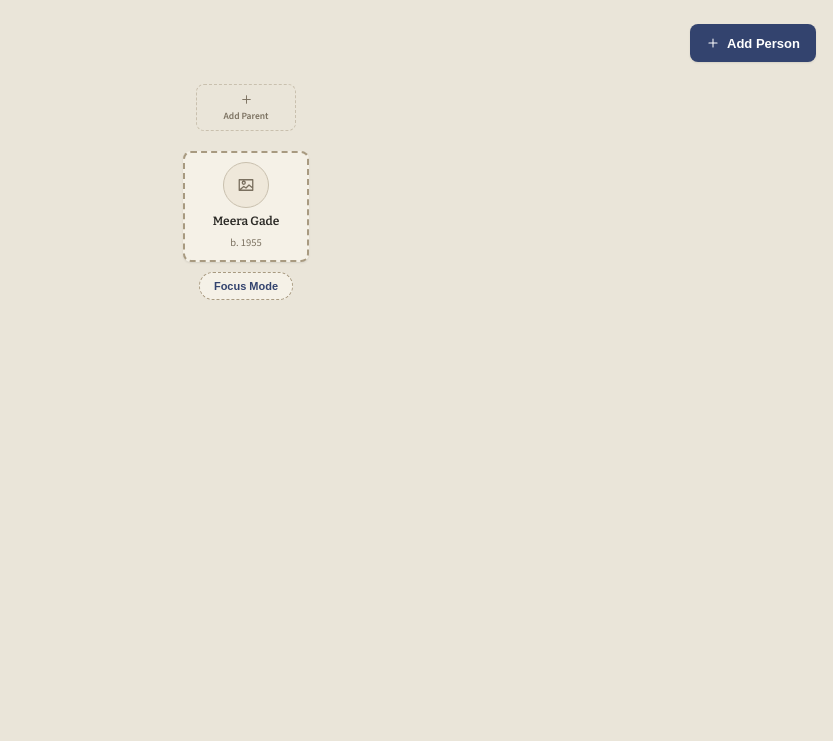
shows a persistent Add Person button once the tree has people, opening the add-person form
Expected: the text "Meera Gade" is shown, [213,214,279,229]
Click the button "Add Person".
click(753, 43)  # box [690,24,816,62]
(page scrolled)
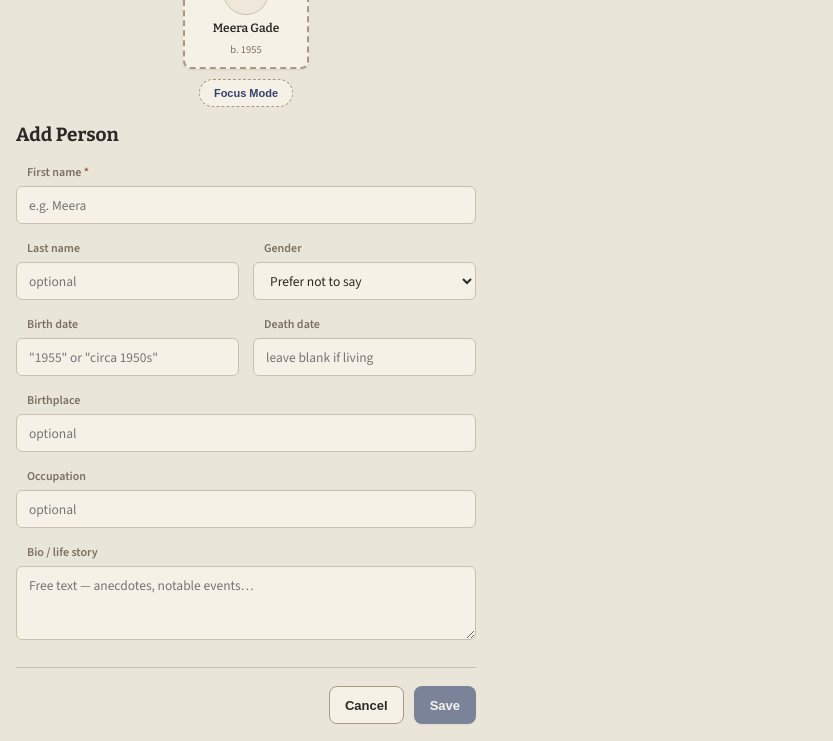
Result: the button "Save" is shown at [414,686,476,724]
